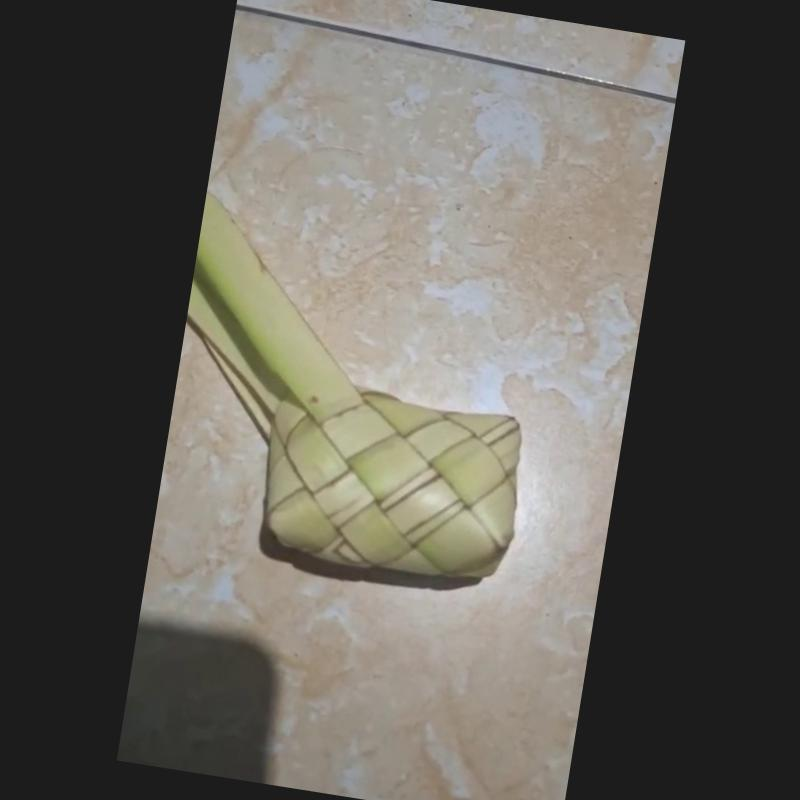Tipat Bantal: (185, 176, 523, 586)
